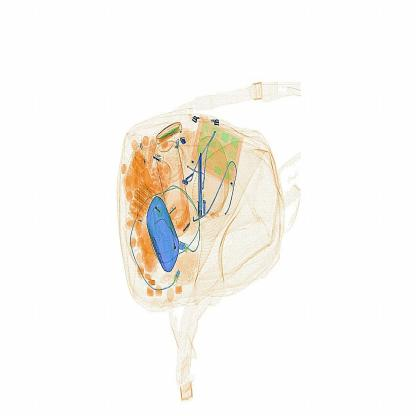wrench: (194, 150, 210, 223)
